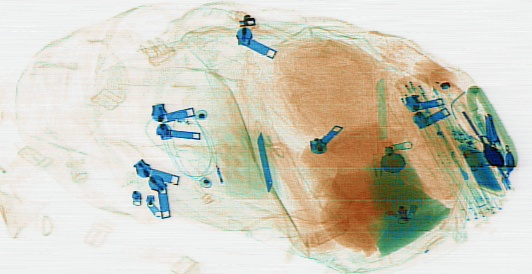knife: (255, 131, 273, 192)
